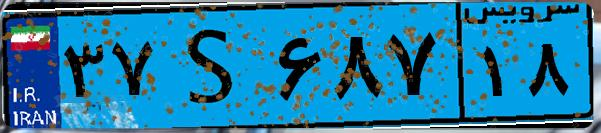1: (475, 38, 525, 113)
3: (57, 26, 110, 100)
6: (270, 28, 330, 110)
7: (385, 28, 445, 110), (110, 28, 158, 98)
8: (330, 28, 385, 110), (525, 38, 570, 115)
S: (158, 12, 270, 120)
